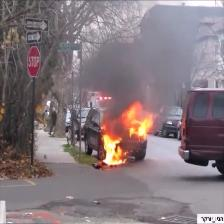fire: (100, 111, 148, 167)
smoke: (94, 31, 184, 95)
